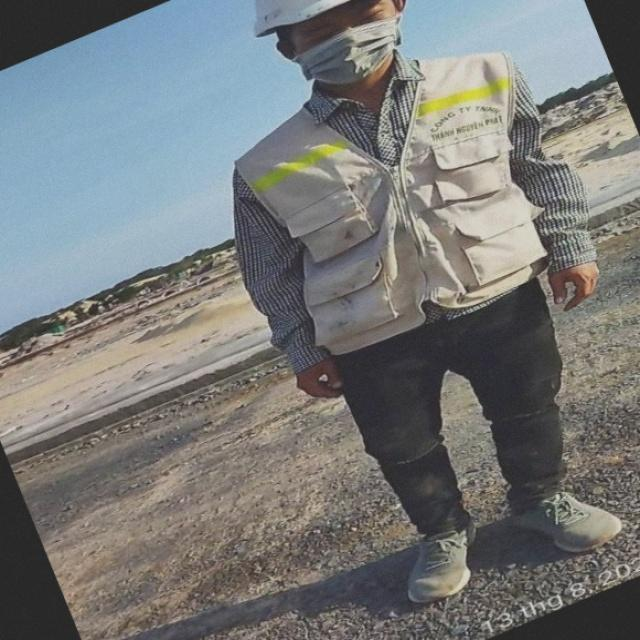helmet: (240, 2, 400, 49)
safety_vest: (222, 44, 544, 383)
